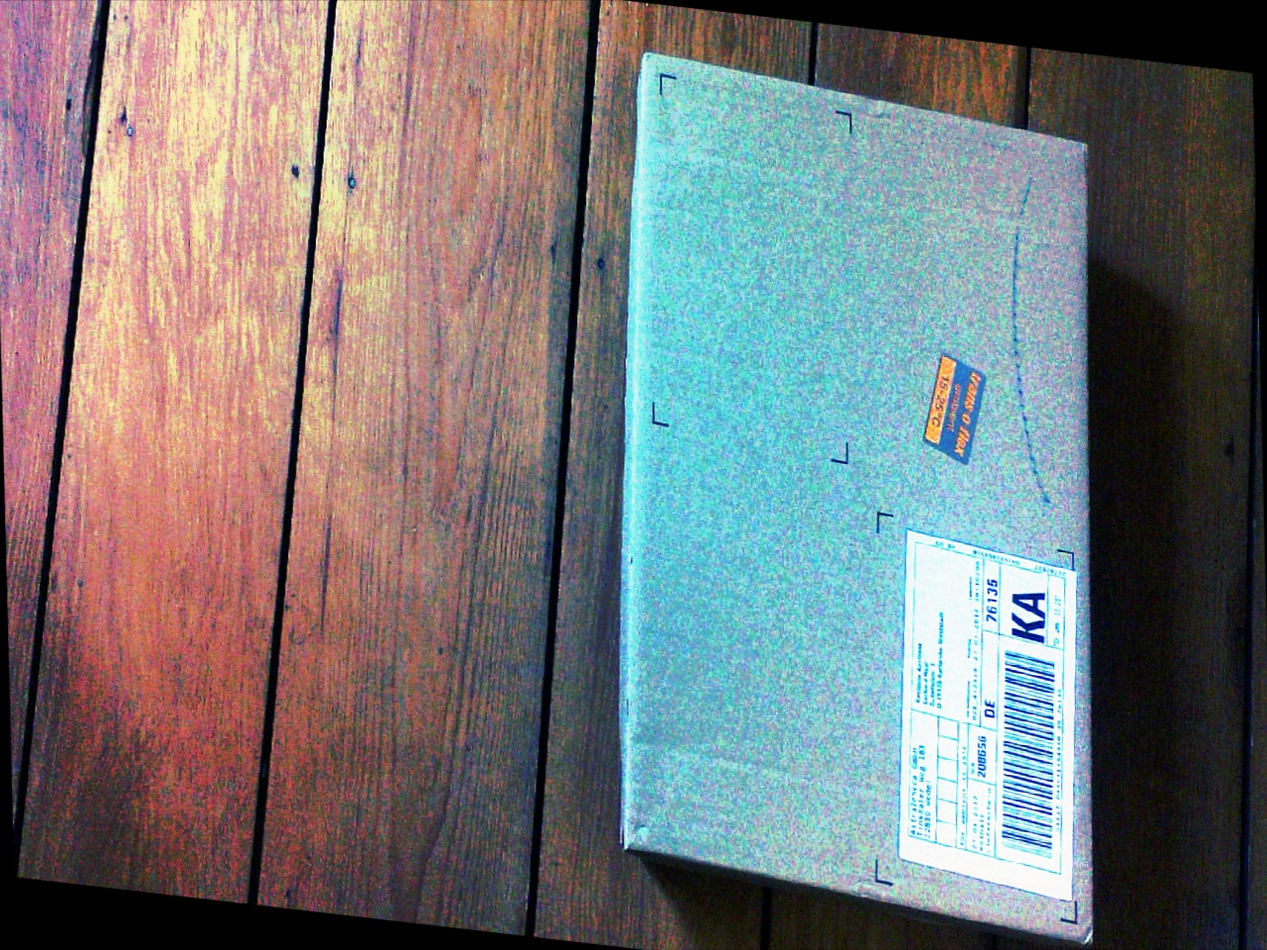good-parcel: (591, 32, 1114, 950)
